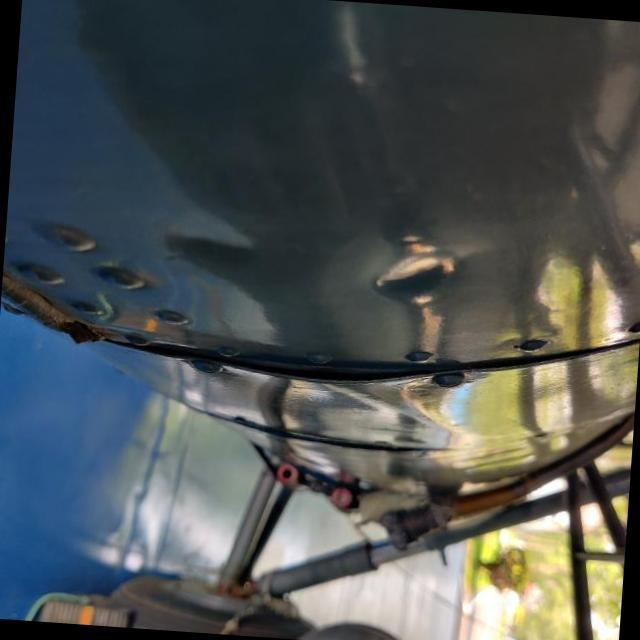Dent: (359, 225, 484, 333), (147, 196, 278, 298)
